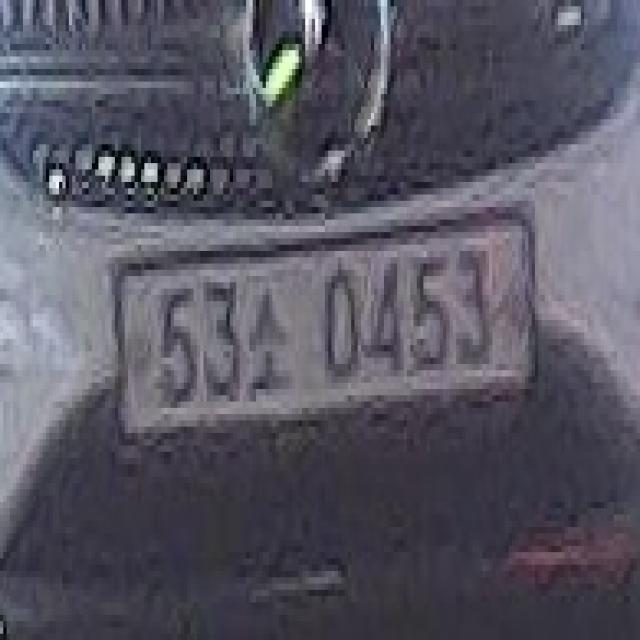0: (318, 270, 368, 383)
3: (197, 270, 253, 420), (450, 220, 499, 389)
4: (368, 251, 413, 395)
5: (407, 226, 456, 408), (158, 288, 200, 408)
license_plate: (112, 200, 535, 470)
so: (240, 276, 296, 408)
